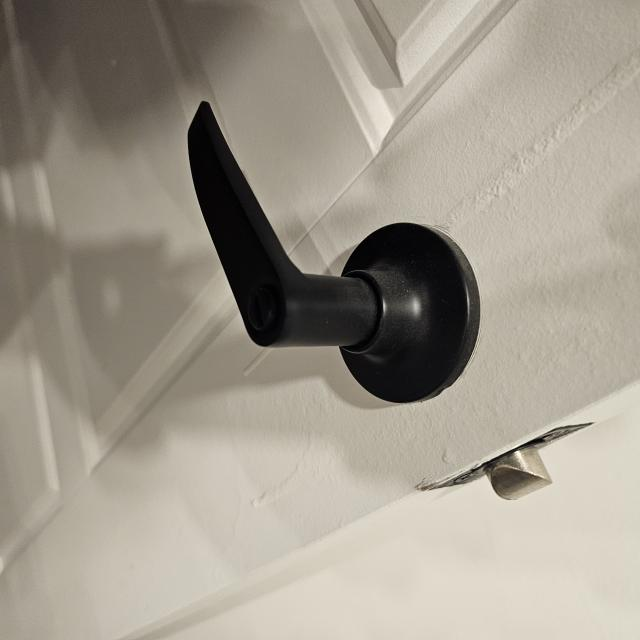door-handle: (188, 101, 480, 402)
